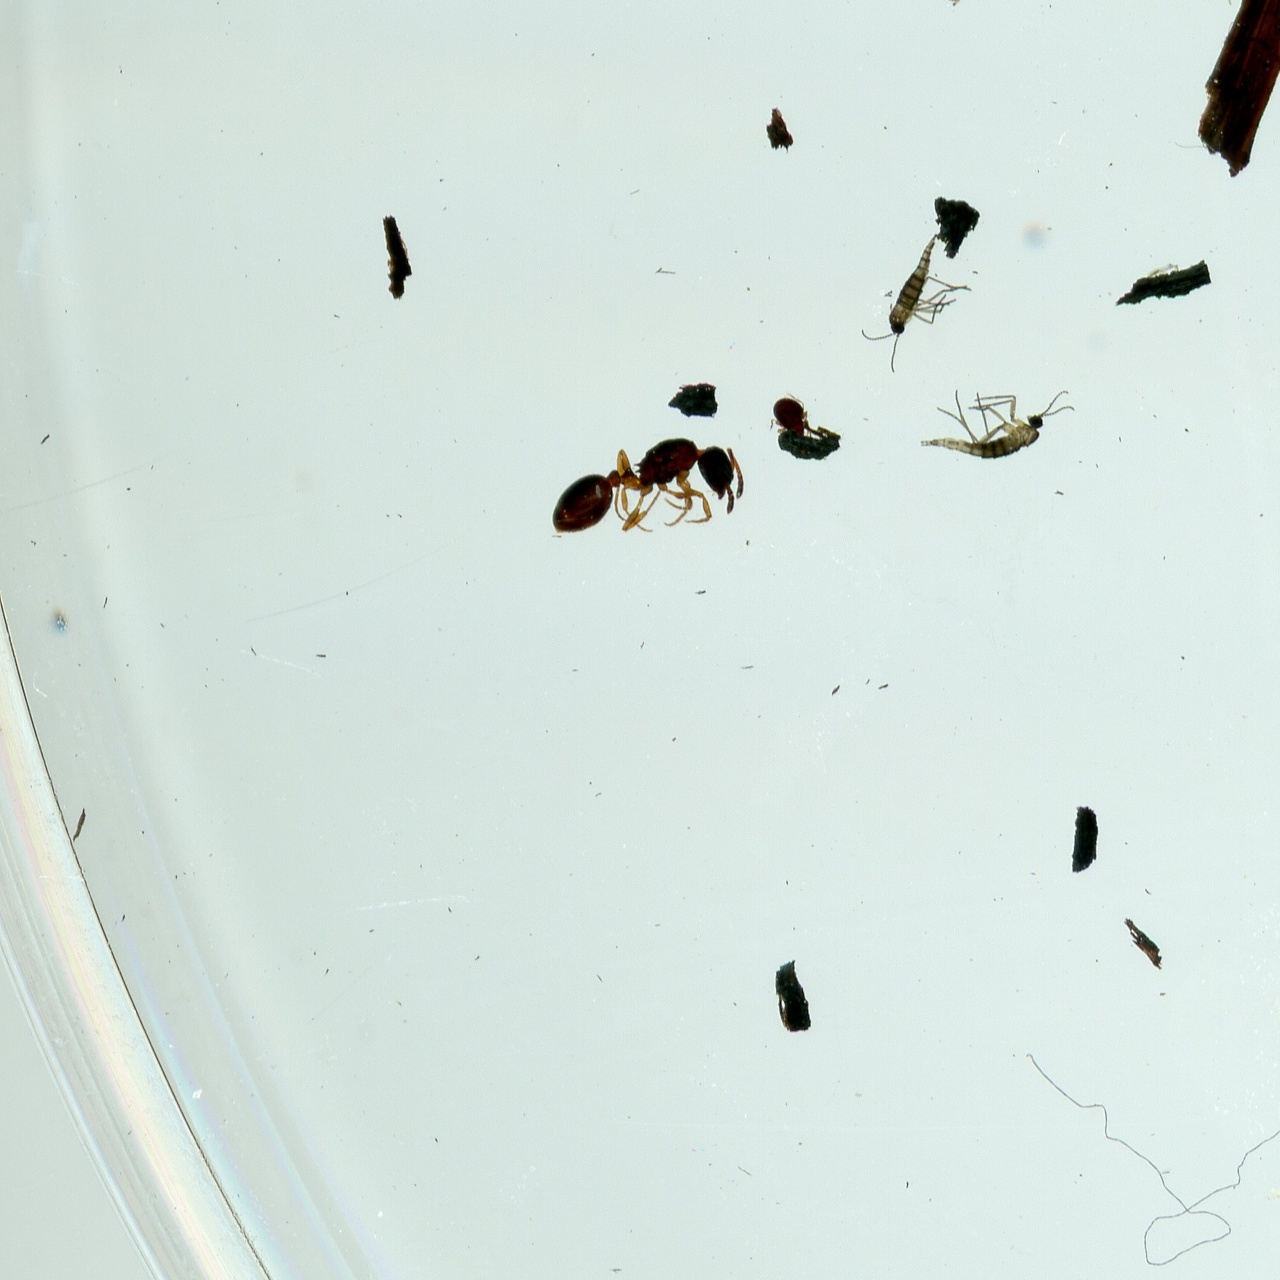arthropod: (537, 419, 756, 563), (847, 217, 988, 392), (919, 385, 1076, 465), (766, 391, 815, 439)
